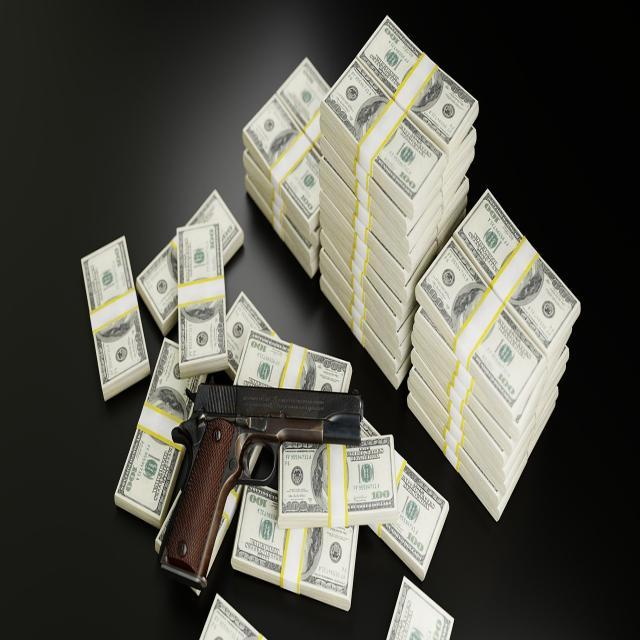Gun: (160, 385, 364, 588)
